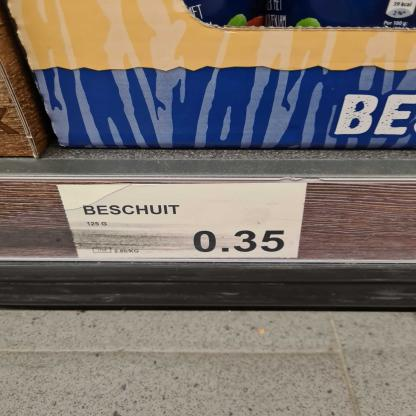prtg: (57, 182, 308, 261)
